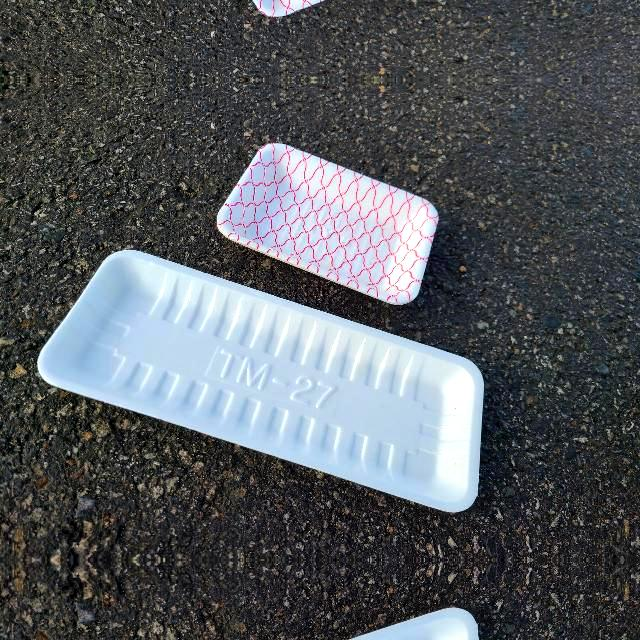Styrofoam: (37, 248, 486, 512), (37, 250, 484, 513), (215, 142, 440, 306), (217, 143, 439, 304)
